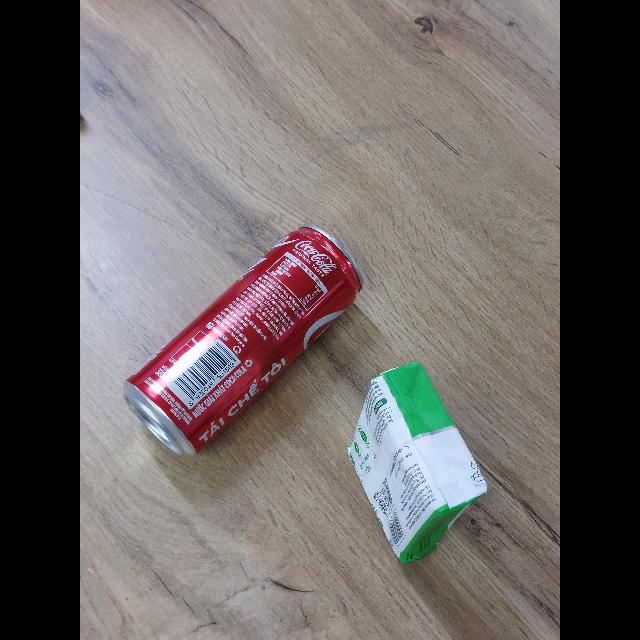coca_cola: (124, 228, 363, 458)
khan_giay: (346, 362, 487, 568)
